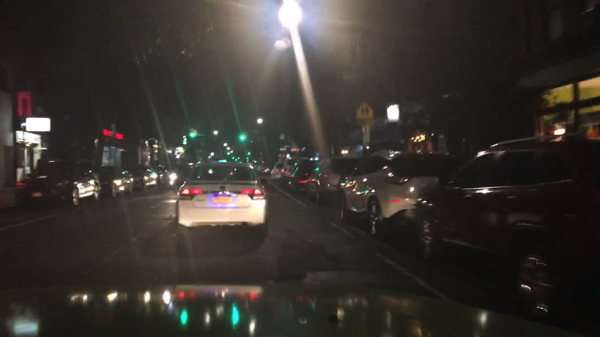car: (410, 130, 597, 322), (337, 151, 463, 237), (173, 163, 268, 238), (15, 157, 101, 207), (305, 156, 365, 205), (280, 158, 320, 194), (91, 166, 133, 198), (128, 166, 156, 193), (169, 164, 194, 184), (151, 166, 170, 188), (271, 162, 286, 183), (257, 162, 273, 175), (249, 160, 260, 171)
traffic light: (189, 129, 195, 137), (240, 133, 245, 141)
traffic sign: (354, 102, 371, 126), (279, 133, 285, 140)
